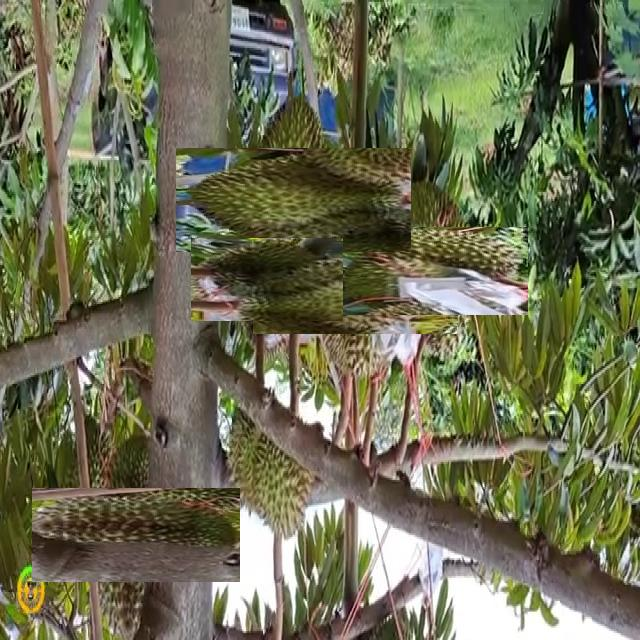durian: (208, 115, 378, 285), (278, 206, 432, 360), (61, 459, 212, 611), (361, 200, 502, 341), (222, 383, 324, 542), (208, 220, 326, 338)
